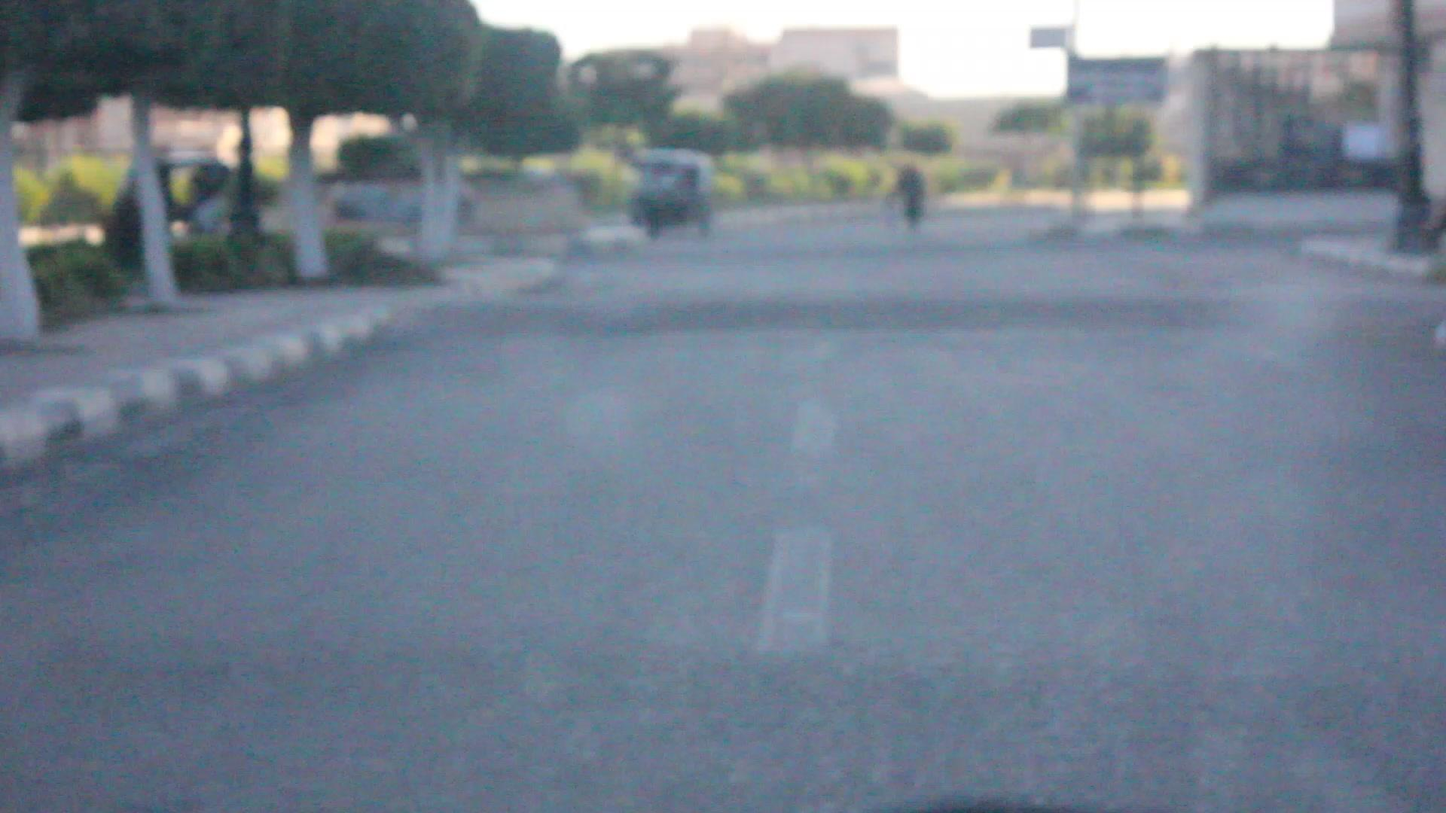Bump: (388, 252, 1446, 369)
